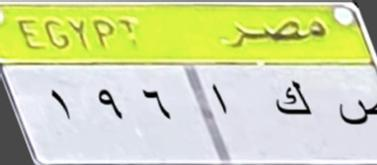1: (41, 84, 84, 131)
6: (140, 81, 174, 132)
9: (94, 84, 130, 127)
alif: (208, 77, 236, 120)
kaaf: (271, 79, 318, 127)
